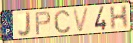4: (93, 6, 108, 32)
C: (53, 9, 72, 35)
H: (109, 5, 129, 31)
J: (17, 11, 32, 38)
P: (35, 10, 53, 36)
V: (71, 7, 91, 34)
